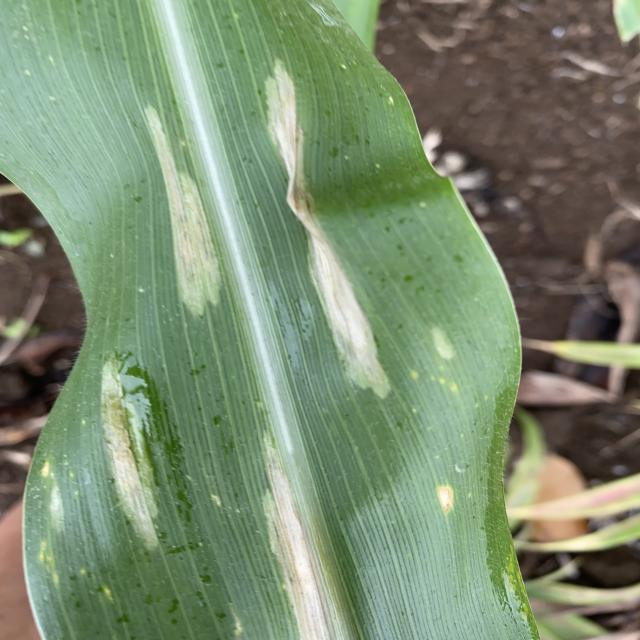Corn_Leaf_Blight: (31, 72, 544, 640)
